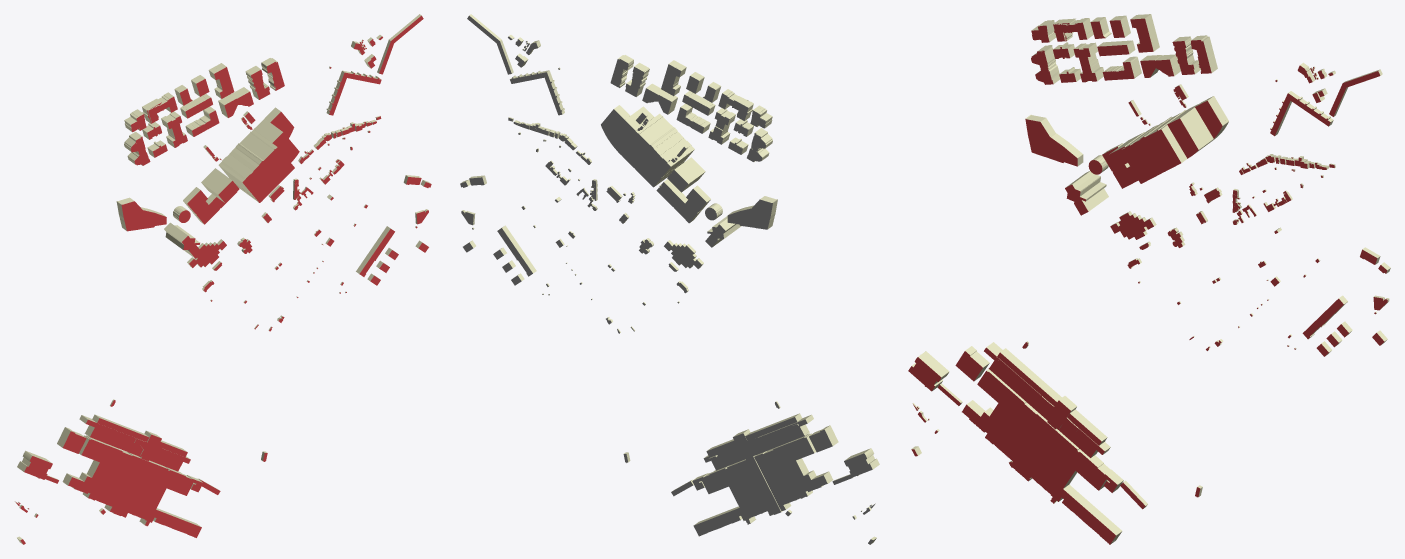
The picture shows the model from 3 angles, left to right: view 1: azimuth 30°, elevation 25°; view 2: azimuth 150°, elevation 25°; view 3: azimuth 330°, elevation 25°; orthographic projection. The views are drawn at different scales.
Visible parts, largest first — view 1: NL.IMBAG.Pand.0363100012185598-19, NL.IMBAG.Pand.0363100012247366-102, NL.IMBAG.Pand.0363100012242112-16, NL.IMBAG.Pand.0363100012237838-25, NL.IMBAG.Pand.0363100012112766-24, NL.IMBAG.Pand.0363100012250610-98, NL.IMBAG.Pand.0363100012245546-35, NL.IMBAG.Pand.0363100012071204-26, NL.IMBAG.Pand.0363100012178504-7, NL.IMBAG.Pand.0363100012252987-110, NL.IMBAG.Pand.0363100012098377-61, NL.IMBAG.Pand.0363100012119827-28 (+5 smaller); view 2: NL.IMBAG.Pand.0363100012185598-19, NL.IMBAG.Pand.0363100012247366-102, NL.IMBAG.Pand.0363100012242112-16, NL.IMBAG.Pand.0363100012112766-24, NL.IMBAG.Pand.0363100012237838-25, NL.IMBAG.Pand.0363100012240311-17, NL.IMBAG.Pand.0363100012245546-35, NL.IMBAG.Pand.0363100012250610-98, NL.IMBAG.Pand.0363100012178504-7, NL.IMBAG.Pand.0363100012119827-28, NL.IMBAG.Pand.0363100012252987-110, NL.IMBAG.Pand.0363100012098377-61 (+7 smaller); view 3: NL.IMBAG.Pand.0363100012185598-19, NL.IMBAG.Pand.0363100012242112-16, NL.IMBAG.Pand.0363100012247366-102, NL.IMBAG.Pand.0363100012237838-25, NL.IMBAG.Pand.0363100012250610-98, NL.IMBAG.Pand.0363100012071204-26, NL.IMBAG.Pand.0363100012178504-7, NL.IMBAG.Pand.0363100012249044-97, NL.IMBAG.Pand.0363100012119827-28, NL.IMBAG.Pand.0363100012252987-111, NL.IMBAG.Pand.0363100012240311-17, NL.IMBAG.Pand.0363100012252987-110 (+7 smaller).
Boxes of the visible parts, x1=… form: NL.IMBAG.Pand.0363100012185598-19: x1=62, y1=435, x2=202, y2=537; NL.IMBAG.Pand.0363100012247366-102: x1=218, y1=129, x2=294, y2=202; NL.IMBAG.Pand.0363100012242112-16: x1=84, y1=414, x2=187, y2=471; NL.IMBAG.Pand.0363100012237838-25: x1=116, y1=197, x2=166, y2=231; NL.IMBAG.Pand.0363100012112766-24: x1=183, y1=187, x2=236, y2=224; NL.IMBAG.Pand.0363100012250610-98: x1=253, y1=118, x2=299, y2=162; NL.IMBAG.Pand.0363100012245546-35: x1=201, y1=168, x2=239, y2=203; NL.IMBAG.Pand.0363100012071204-26: x1=164, y1=222, x2=201, y2=258; NL.IMBAG.Pand.0363100012178504-7: x1=17, y1=450, x2=52, y2=479; NL.IMBAG.Pand.0363100012252987-110: x1=218, y1=87, x2=253, y2=117; NL.IMBAG.Pand.0363100012098377-61: x1=356, y1=226, x2=394, y2=276; NL.IMBAG.Pand.0363100012119827-28: x1=187, y1=239, x2=226, y2=267; NL.IMBAG.Pand.0363100012185598-19: x1=692, y1=433, x2=833, y2=536; NL.IMBAG.Pand.0363100012247366-102: x1=618, y1=113, x2=694, y2=187; NL.IMBAG.Pand.0363100012242112-16: x1=706, y1=413, x2=809, y2=470; NL.IMBAG.Pand.0363100012112766-24: x1=656, y1=179, x2=710, y2=223; NL.IMBAG.Pand.0363100012237838-25: x1=727, y1=196, x2=777, y2=229; NL.IMBAG.Pand.0363100012240311-17: x1=726, y1=429, x2=782, y2=514; NL.IMBAG.Pand.0363100012245546-35: x1=667, y1=157, x2=705, y2=192; NL.IMBAG.Pand.0363100012250610-98: x1=608, y1=106, x2=654, y2=151; NL.IMBAG.Pand.0363100012178504-7: x1=844, y1=448, x2=879, y2=477; NL.IMBAG.Pand.0363100012119827-28: x1=664, y1=240, x2=703, y2=268; NL.IMBAG.Pand.0363100012252987-110: x1=642, y1=83, x2=677, y2=114; NL.IMBAG.Pand.0363100012098377-61: x1=497, y1=225, x2=536, y2=276; NL.IMBAG.Pand.0363100012185598-19: x1=962, y1=369, x2=1123, y2=544; NL.IMBAG.Pand.0363100012242112-16: x1=988, y1=348, x2=1107, y2=457; NL.IMBAG.Pand.0363100012247366-102: x1=1121, y1=110, x2=1187, y2=183; NL.IMBAG.Pand.0363100012237838-25: x1=1025, y1=114, x2=1083, y2=166; NL.IMBAG.Pand.0363100012250610-98: x1=1167, y1=104, x2=1218, y2=158; NL.IMBAG.Pand.0363100012071204-26: x1=1065, y1=171, x2=1108, y2=215; NL.IMBAG.Pand.0363100012178504-7: x1=908, y1=351, x2=949, y2=391; NL.IMBAG.Pand.0363100012249044-97: x1=1195, y1=96, x2=1228, y2=138; NL.IMBAG.Pand.0363100012119827-28: x1=1110, y1=211, x2=1156, y2=239; NL.IMBAG.Pand.0363100012252987-111: x1=1130, y1=14, x2=1159, y2=52; NL.IMBAG.Pand.0363100012240311-17: x1=1015, y1=396, x2=1078, y2=476; NL.IMBAG.Pand.0363100012252987-110: x1=1140, y1=54, x2=1180, y2=77.
Size of the model in its own units: 1009 by 1081 by 109.
